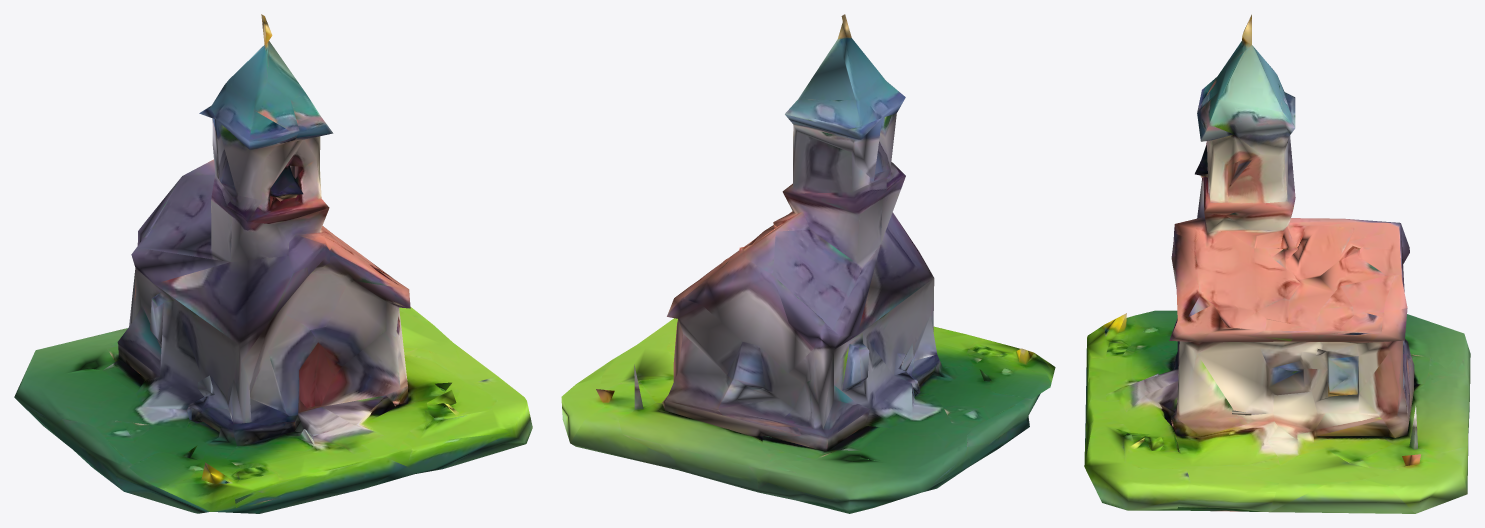
The model's file is chapel.glb.
The picture shows the model from 3 angles, left to right: view 1: azimuth 30°, elevation 25°; view 2: azimuth 150°, elevation 25°; view 3: azimuth 270°, elevation 25°; orthographic projection. The views are drawn at different scales.
Parts seen in each view (by area): view 1: tripo_node_2643d7d0-a82b-4475-9a7c-7990eec2122c; view 2: tripo_node_2643d7d0-a82b-4475-9a7c-7990eec2122c; view 3: tripo_node_2643d7d0-a82b-4475-9a7c-7990eec2122c.
Boxes of the visible parts, x1,y1,x2,y2 form: tripo_node_2643d7d0-a82b-4475-9a7c-7990eec2122c: [14, 14, 532, 513]; tripo_node_2643d7d0-a82b-4475-9a7c-7990eec2122c: [561, 14, 1055, 513]; tripo_node_2643d7d0-a82b-4475-9a7c-7990eec2122c: [1084, 14, 1470, 513].
Bounding box in the file's own units: 0.8754 × 0.9273 × 0.8013.
Materials: 1 (1 with a texture image).
